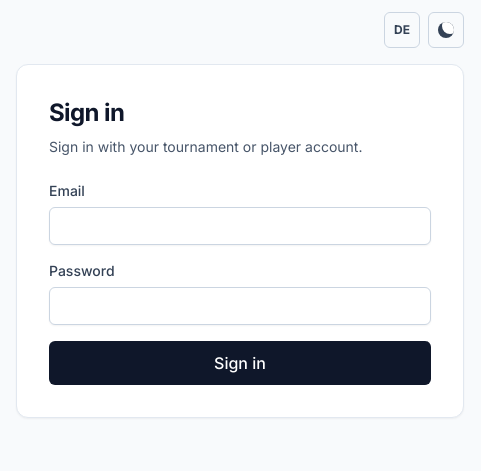
Scenario: shared login page › shows one consistent inline error for invalid credentials
Type "missing@example.com" into the field labelled "Email".
click(240, 226); type("missing@example.com")  # box [49,207,431,245]
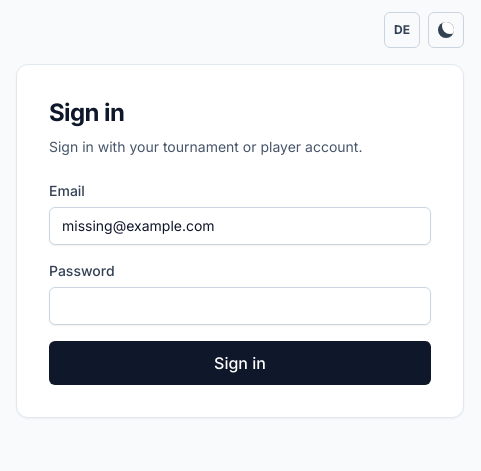
Type "correct-password" into the password field labelled "Password".
click(240, 306); type("correct-password")  # box [49,287,431,325]
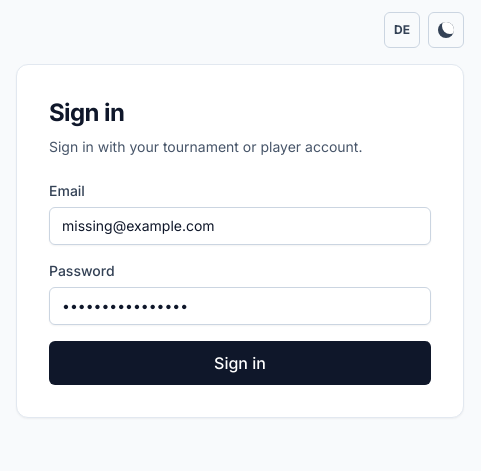
Click the button "Sign in".
click(240, 363)  # box [49,341,431,385]
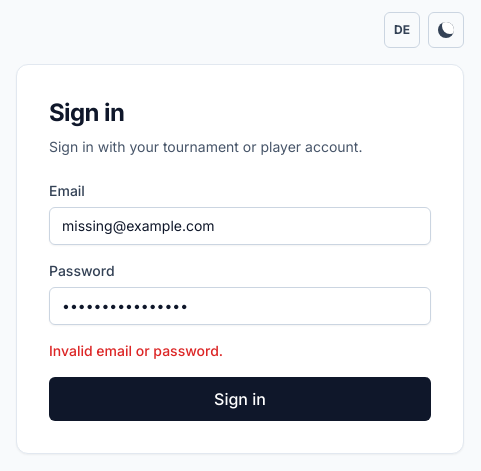
Now the text "Invalid email or password." is shown, box [49,342,223,359]
